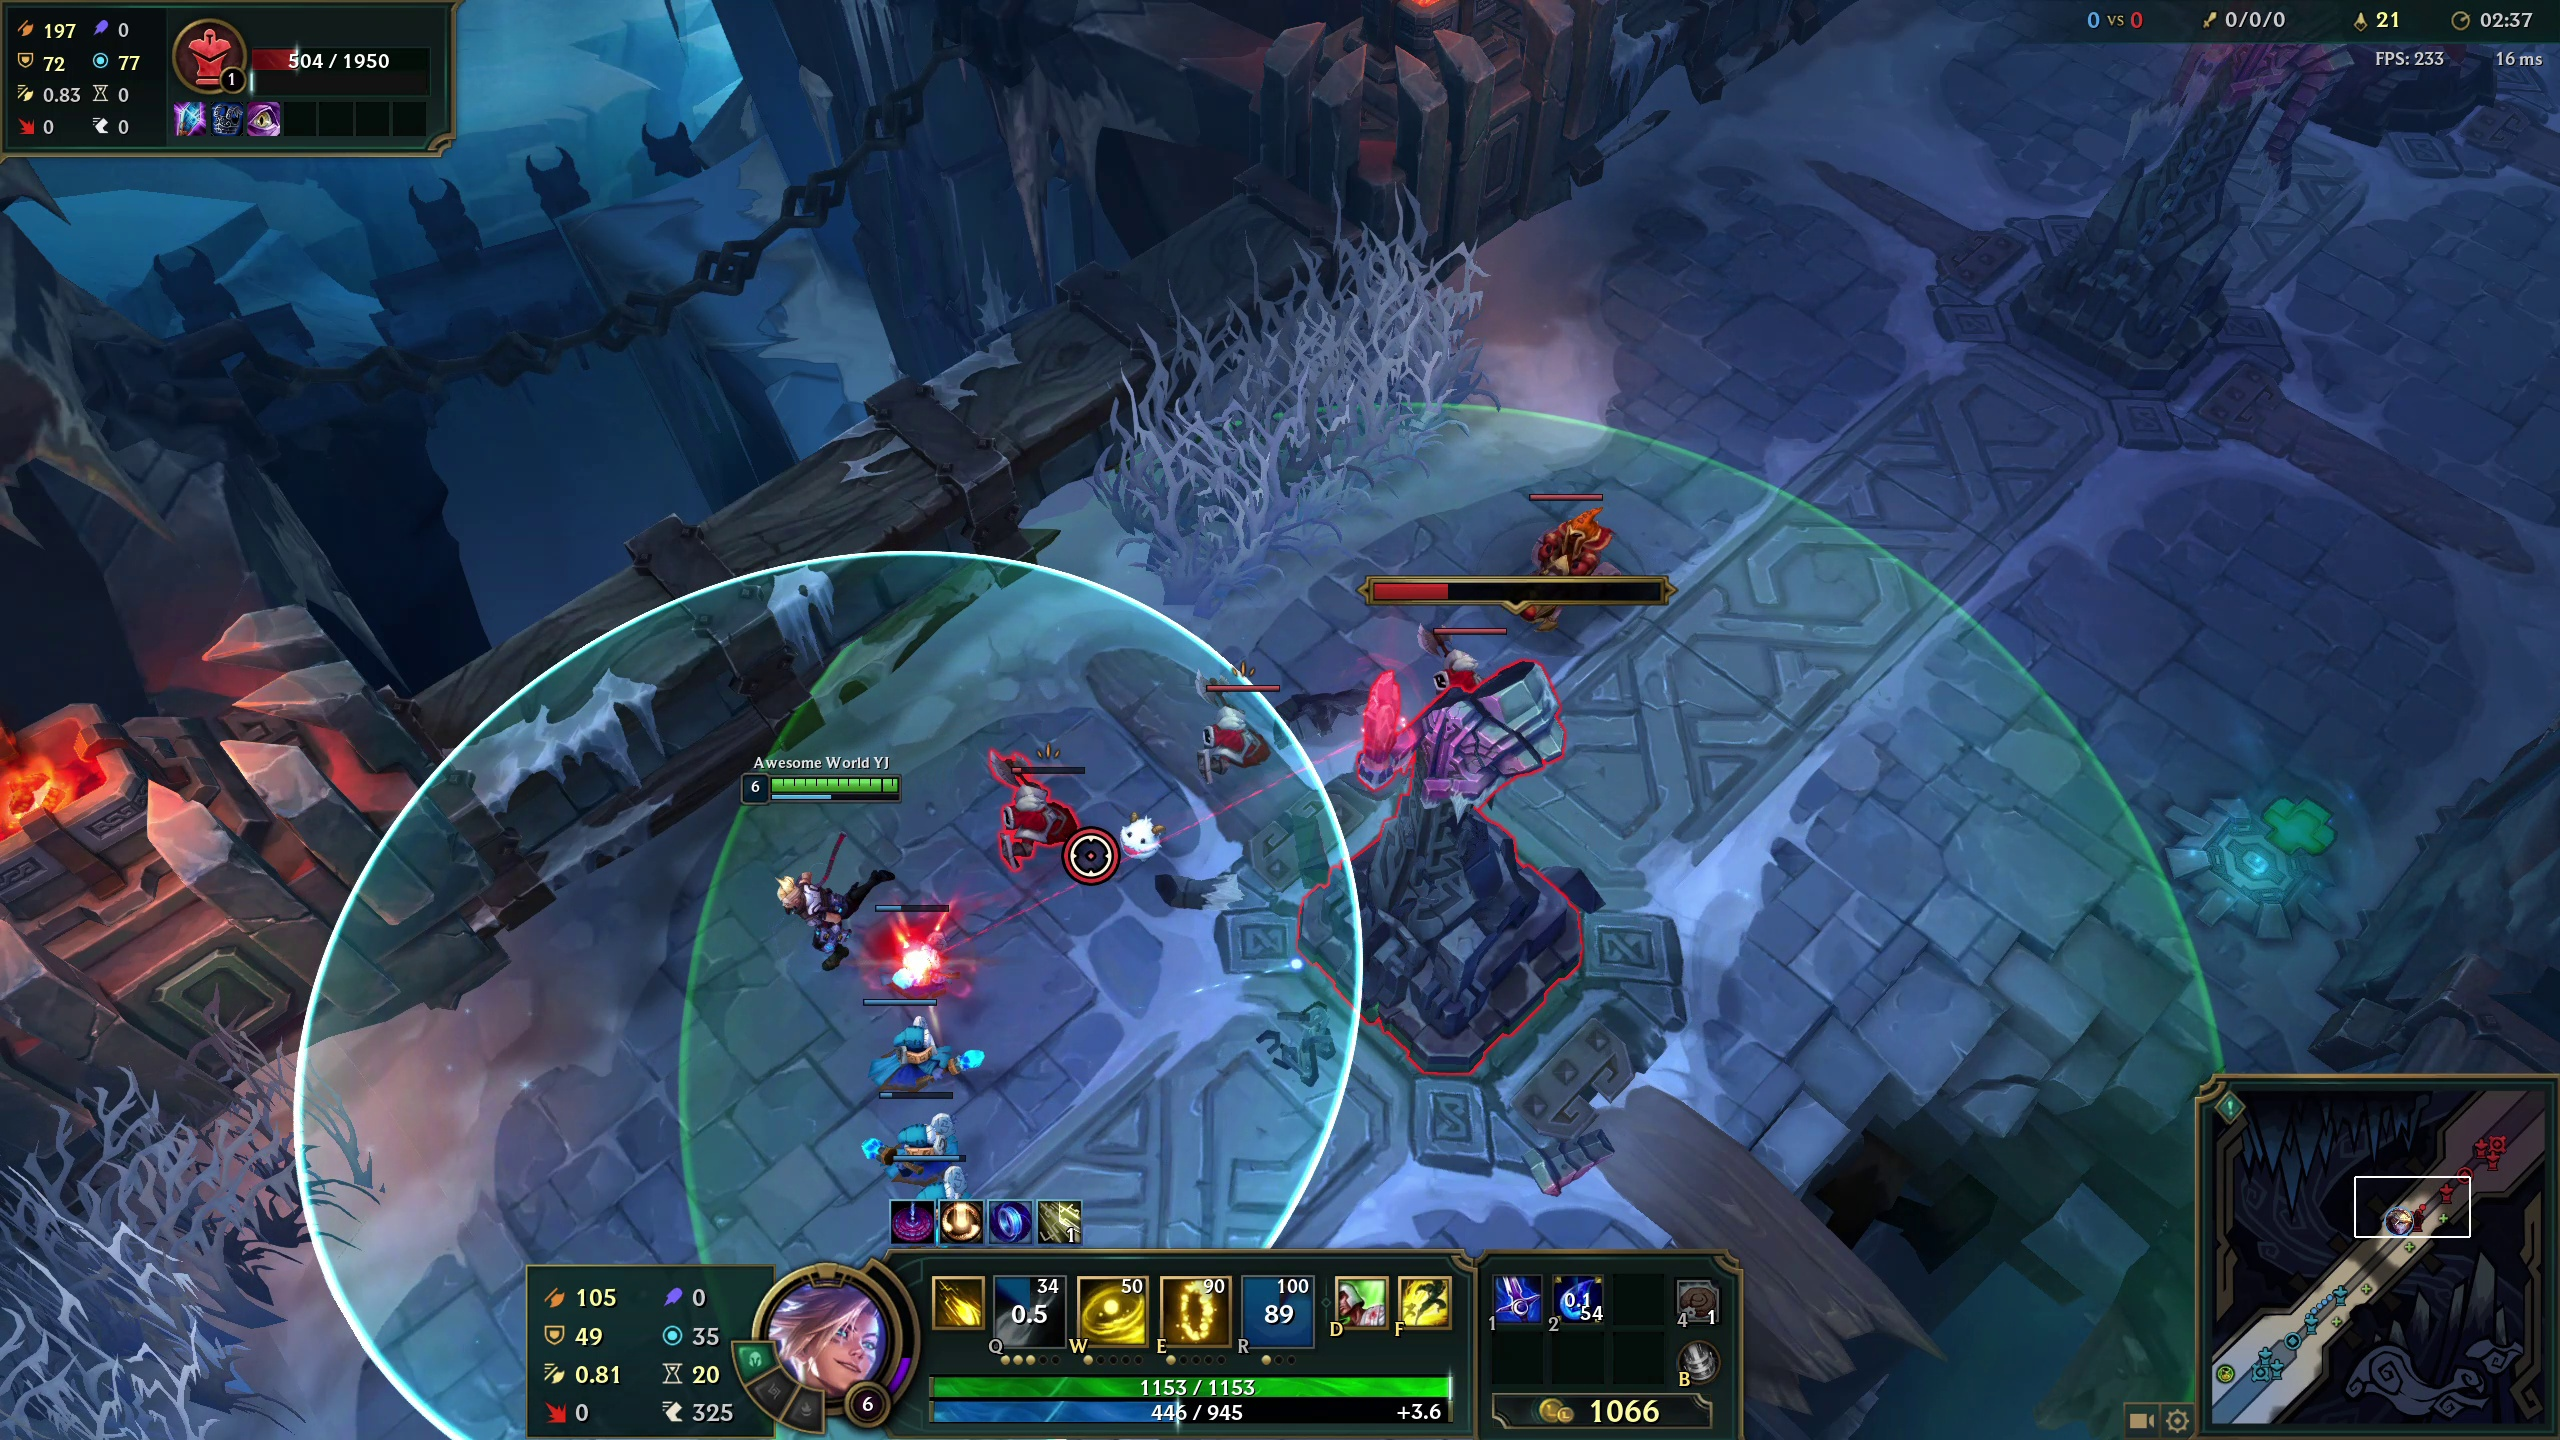EZ: (738, 751, 902, 971)
EnemyMinion: (1007, 760, 1095, 862), (1201, 672, 1289, 774)
EnemySuperMinnion: (1517, 476, 1619, 622)
Glass: (5, 1124, 258, 1378), (1176, 301, 1436, 508)
MyMinion: (869, 904, 958, 990), (865, 1006, 955, 1092), (884, 1088, 953, 1169)
Turret: (1335, 644, 1614, 1080), (2036, 60, 2388, 383)
